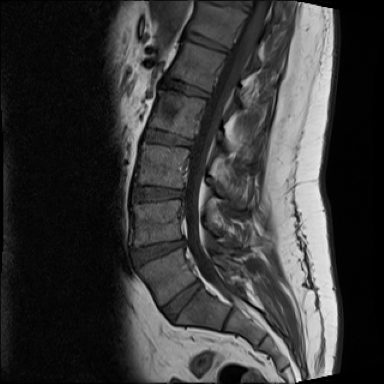Lumbar Disc Bulge (LDB): (124, 226, 195, 272)
Normal IVD: (159, 63, 218, 107), (156, 275, 205, 327), (174, 24, 231, 60), (138, 119, 198, 153), (120, 181, 188, 207)
Spinal Stenosis (SS): (170, 225, 196, 259)
